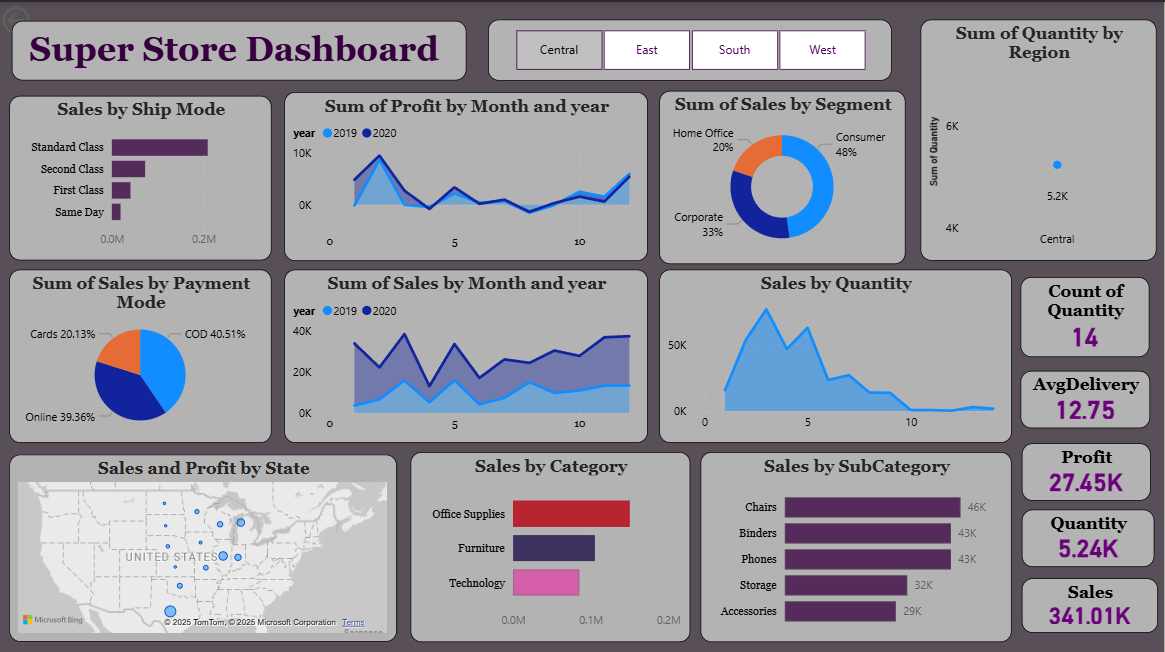

This screenshot's page, from the dashboard's own definition file:
{"tool":"powerbi","page":{"name":"Page 1","canvas":[1280,720],"ordinal":0},"visuals":[{"type":"clusteredBarChart","title":" Sales by SubCategory","fields":{"Category":["SuperStore_Sales_Dataset.Sub-Category","SuperStore_Sales_Dataset.Category"],"Y":["Sum(SuperStore_Sales_Dataset.Sales)"]},"box":[771.2,494,341.7,208.6],"z":0},{"type":"clusteredBarChart","title":" Sales by Category","fields":{"Category":["SuperStore_Sales_Dataset.Category"],"Y":["Sum(SuperStore_Sales_Dataset.Sales)"]},"box":[452.8,494,307.4,208.6],"z":1000},{"type":"clusteredBarChart","title":" Sales by Ship Mode","fields":{"Category":["SuperStore_Sales_Dataset.Ship Mode","SuperStore_Sales_Dataset.Category"],"Y":["Sum(SuperStore_Sales_Dataset.Sales)"]},"box":[12.3,102.9,288.2,181.1],"z":2000},{"type":"actionButton","box":[0,0,100,40],"z":3000},{"type":"stackedAreaChart","title":"Sales by Quantity","fields":{"Category":["SuperStore_Sales_Dataset.Quantity"],"Y":["Sum(SuperStore_Sales_Dataset.Sales)"]},"box":[725.9,293.7,387,190.7],"z":4000},{"type":"map","title":"Sales and Profit by State","fields":{"Category":["SuperStore_Sales_Dataset.State"],"Size":["Sum(SuperStore_Sales_Dataset.Sales)"]},"box":[12.3,496.7,425.4,205.8],"z":5000},{"type":"donutChart","fields":{"Category":["SuperStore_Sales_Dataset.Segment"],"Y":["Sum(SuperStore_Sales_Dataset.Sales)"]},"box":[725.9,97.4,270.3,190.7],"z":6000},{"type":"pieChart","fields":{"Category":["SuperStore_Sales_Dataset.Payment Mode"],"Y":["Sum(SuperStore_Sales_Dataset.Sales)"]},"box":[12.3,293.7,288.2,190.7],"z":7000},{"type":"slicer","fields":{"Values":["SuperStore_Sales_Dataset.Region"]},"box":[537.9,19.2,443.2,67.2],"z":8000},{"type":"textbox","box":[15.1,20.6,499.5,65.9],"z":9000},{"type":"card","title":"Sales","fields":{"Values":["Sum(SuperStore_Sales_Dataset.Sales)"]},"box":[1123.8,632.6,149.6,60.4],"z":10000},{"type":"card","title":"Profit","fields":{"Values":["Sum(SuperStore_Sales_Dataset.Profit)"]},"box":[1123.8,484.4,141.3,63.1],"z":11000},{"type":"card","title":"Quantity","fields":{"Values":["Sum(SuperStore_Sales_Dataset.Quantity)"]},"box":[1123.8,557.1,145.5,63.1],"z":12000},{"type":"card","title":"AvgDelivery","fields":{"Values":["Avg(SuperStore_Sales_Dataset.Avgdelivery)"]},"box":[1122.5,404.8,142.7,63.1],"z":13000},{"type":"stackedAreaChart","fields":{"Y":["Sum(SuperStore_Sales_Dataset.Sales)"],"Category":["SuperStore_Sales_Dataset.Month"],"Series":["SuperStore_Sales_Dataset.year"]},"box":[314.2,293.7,399.3,190.7],"z":14000},{"type":"stackedAreaChart","fields":{"Category":["SuperStore_Sales_Dataset.Month"],"Series":["SuperStore_Sales_Dataset.year"],"Y":["Sum(SuperStore_Sales_Dataset.Profit)"]},"box":[314.2,98.8,399.3,185.2],"z":15000},{"type":"stackedAreaChart","fields":{"Category":["SuperStore_Sales_Dataset.Region"],"Y":["Sum(SuperStore_Sales_Dataset.Quantity)"]},"box":[1012.7,19.2,259.3,264.8],"z":16000},{"type":"card","title":"Count of Quantity","fields":{"Values":["Count(SuperStore_Sales_Dataset.Quantity)"]},"box":[1122.5,301.9,141.3,87.8],"z":17000}]}

Visuals, with their boxes in screenshot pixels (x1, y1, x2, y2), scaled from the page's 1280x720 canvas onto the 1165x652 screenshot:
" Sales by SubCategory" clusteredBarChart: pyautogui.locateOnScreen(702, 447, 1013, 636)
" Sales by Category" clusteredBarChart: pyautogui.locateOnScreen(412, 447, 692, 636)
" Sales by Ship Mode" clusteredBarChart: pyautogui.locateOnScreen(11, 93, 274, 257)
actionButton: pyautogui.locateOnScreen(0, 0, 91, 36)
"Sales by Quantity" stackedAreaChart: pyautogui.locateOnScreen(661, 266, 1013, 439)
"Sales and Profit by State" map: pyautogui.locateOnScreen(11, 450, 398, 636)
donutChart - SuperStore_Sales_Dataset.Segment x Sum(SuperStore_Sales_Dataset.Sales): pyautogui.locateOnScreen(661, 88, 907, 261)
pieChart - SuperStore_Sales_Dataset.Payment Mode x Sum(SuperStore_Sales_Dataset.Sales): pyautogui.locateOnScreen(11, 266, 274, 439)
slicer - SuperStore_Sales_Dataset.Region: pyautogui.locateOnScreen(490, 17, 893, 78)
textbox: pyautogui.locateOnScreen(14, 19, 468, 78)
"Sales" card: pyautogui.locateOnScreen(1023, 573, 1159, 628)
"Profit" card: pyautogui.locateOnScreen(1023, 439, 1151, 496)
"Quantity" card: pyautogui.locateOnScreen(1023, 504, 1155, 562)
"AvgDelivery" card: pyautogui.locateOnScreen(1022, 367, 1152, 424)
stackedAreaChart - Sum(SuperStore_Sales_Dataset.Sales) x SuperStore_Sales_Dataset.Month: pyautogui.locateOnScreen(286, 266, 649, 439)
stackedAreaChart - SuperStore_Sales_Dataset.Month x SuperStore_Sales_Dataset.year: pyautogui.locateOnScreen(286, 89, 649, 257)
stackedAreaChart - SuperStore_Sales_Dataset.Region x Sum(SuperStore_Sales_Dataset.Quantity): pyautogui.locateOnScreen(922, 17, 1158, 257)
"Count of Quantity" card: pyautogui.locateOnScreen(1022, 273, 1150, 353)
